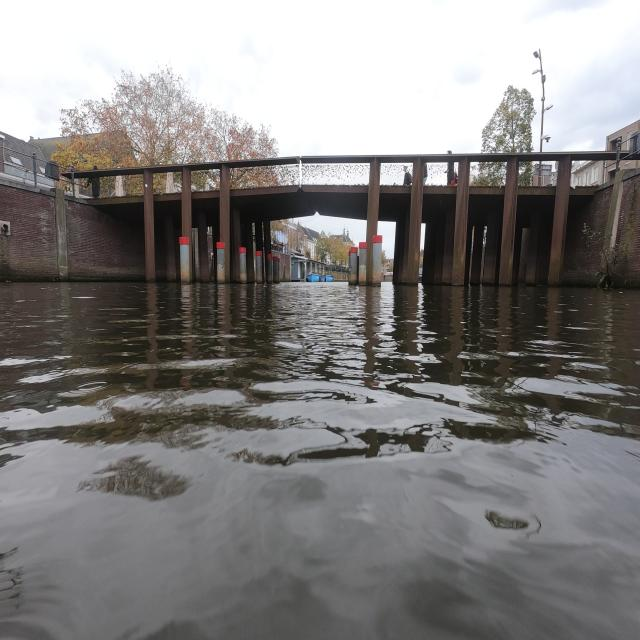sky: (0, 2, 640, 156)
wall: (0, 180, 144, 281), (563, 180, 617, 285), (611, 169, 640, 288)
water: (0, 281, 640, 638)
